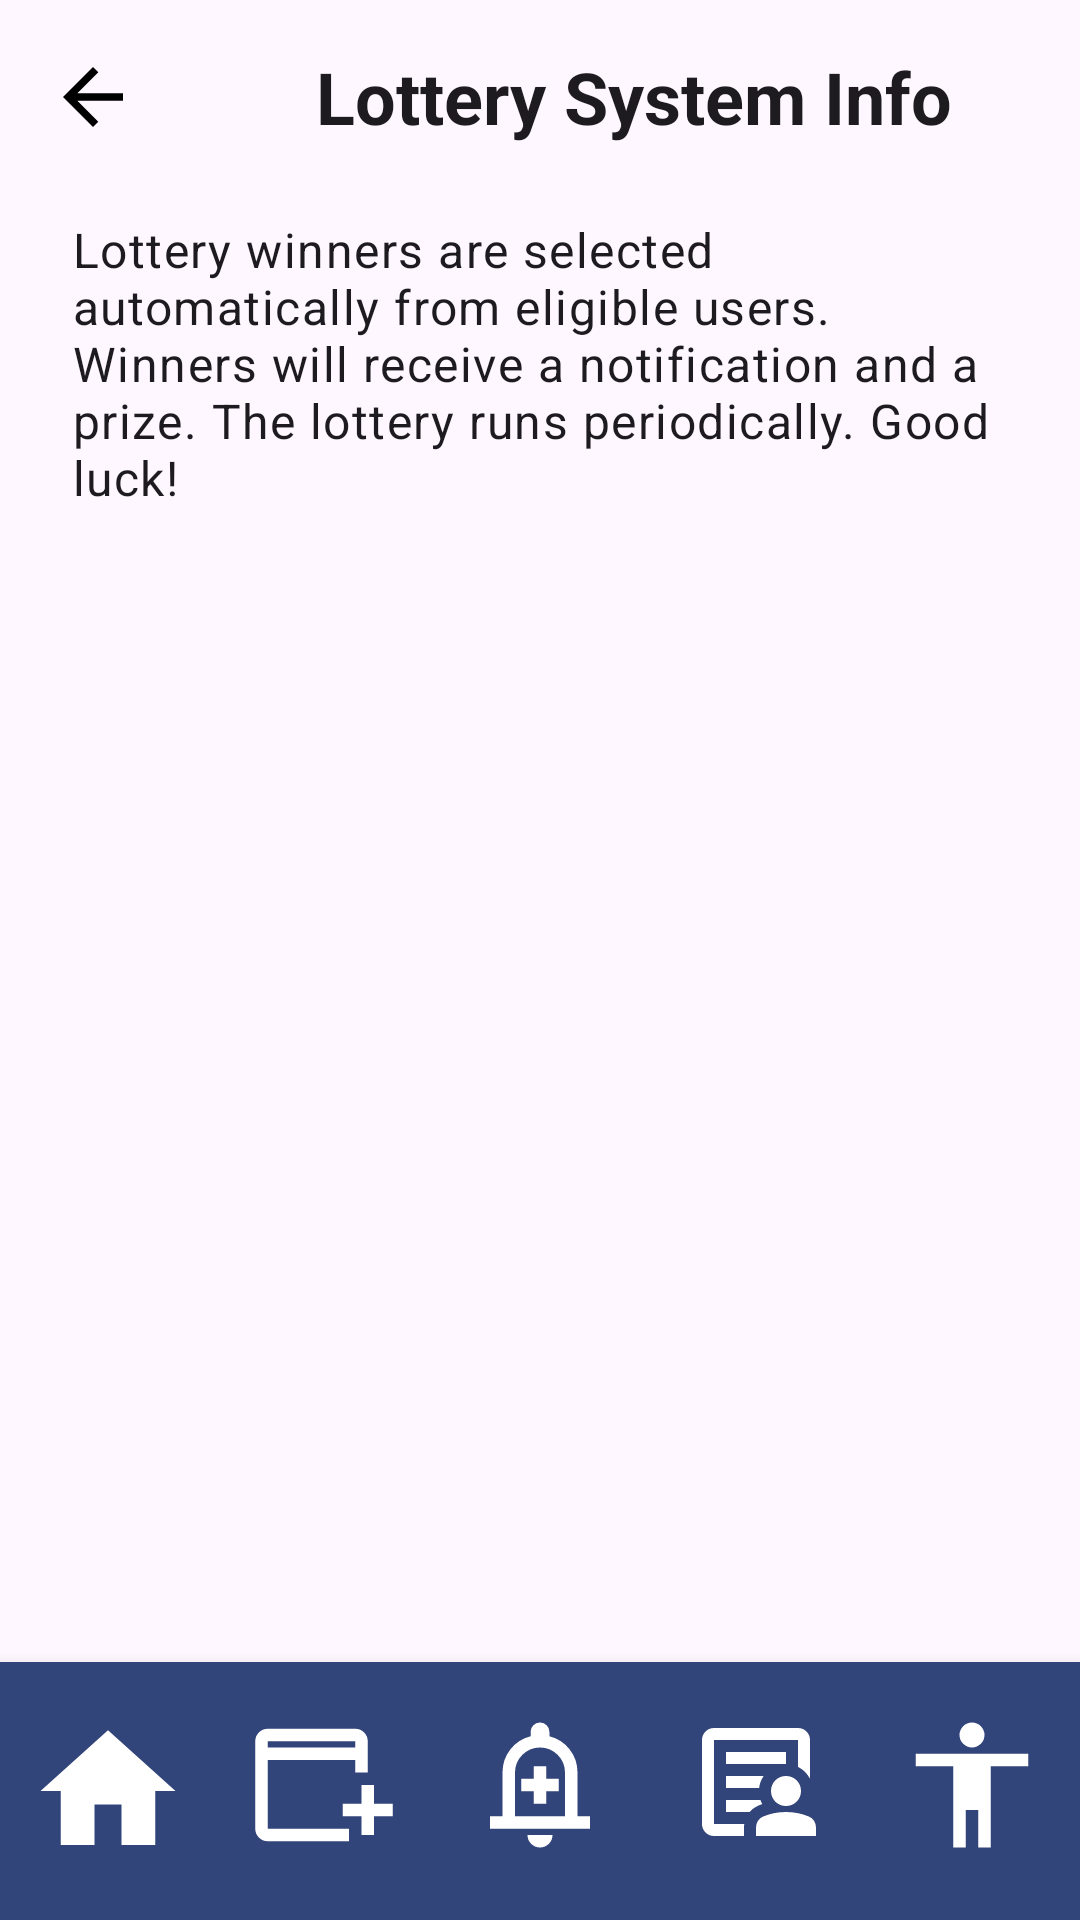

Icons on this 1080px x 1920px Android screen, each with the point to tap as (x=x, y=y):
Back: (x=93, y=97)
Home: (x=108, y=1787)
Notifications: (x=540, y=1785)
Open Events: (x=324, y=1785)
Profile: (x=972, y=1785)
View Users: (x=759, y=1782)
